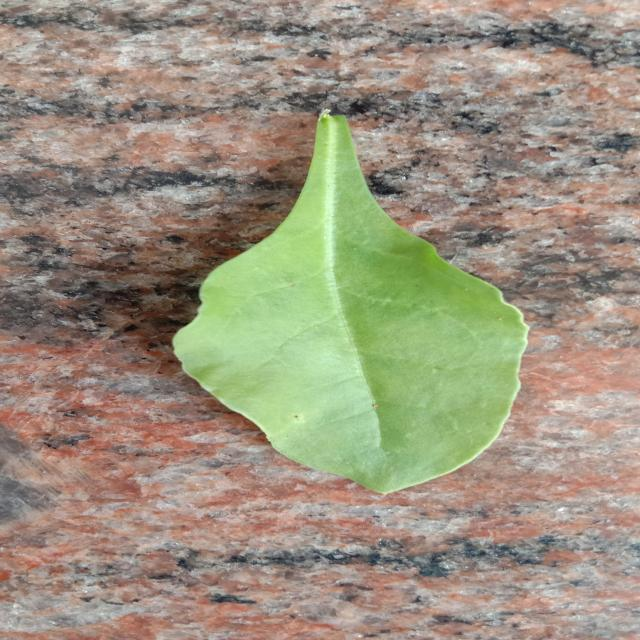leaf: (170, 107, 530, 496)
